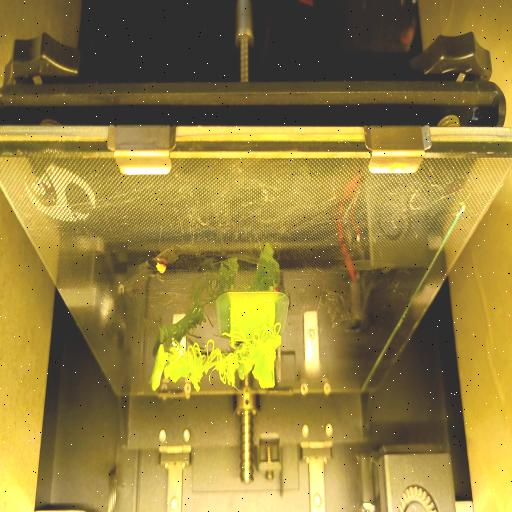spaghetti: (170, 328, 284, 398)
